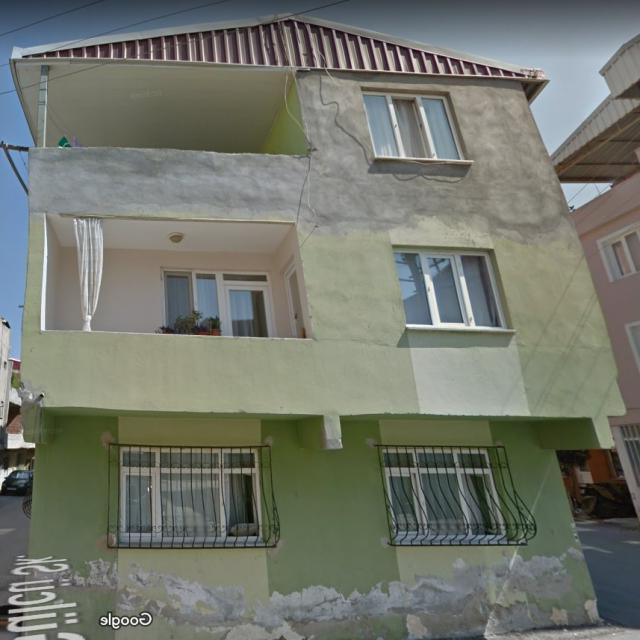Building: (10, 12, 627, 640)
